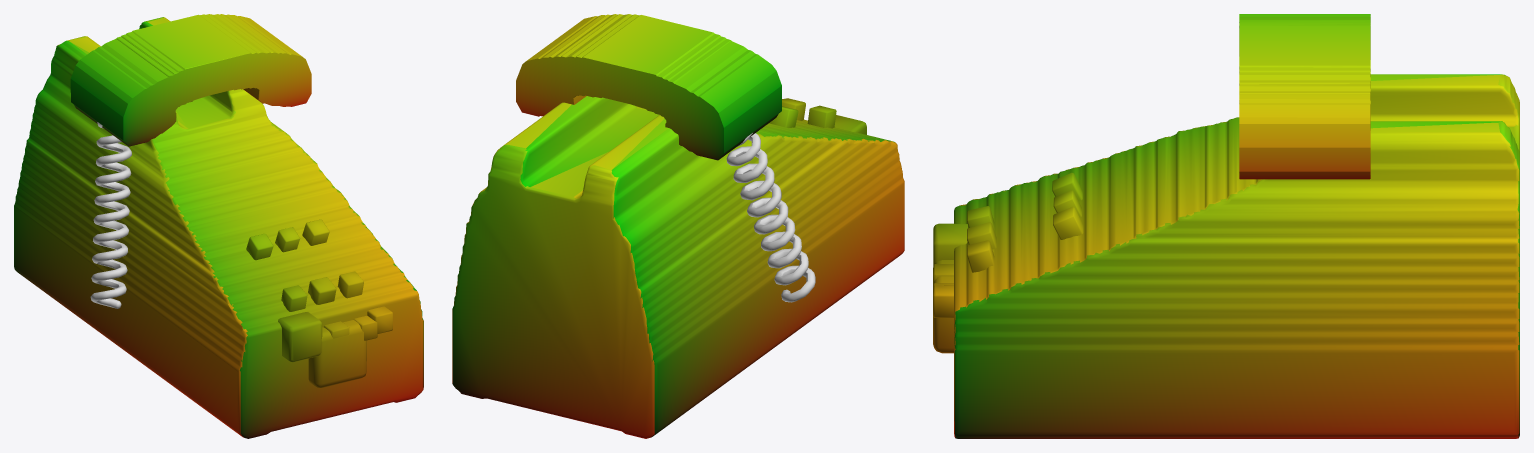
The model's file is telephone_desk_kit.glb.
3 renders of one model, left to right at view 1: azimuth 30°, elevation 25°; view 2: azimuth 150°, elevation 25°; view 3: azimuth 270°, elevation 25°, orthographic. The views are drawn at different scales.
Visible parts, largest first — view 1: telephone_desk_kit; view 2: telephone_desk_kit; view 3: telephone_desk_kit.
Part boxes in pixels (<box>): telephone_desk_kit: <box>14,14,423,438</box>; telephone_desk_kit: <box>452,14,904,438</box>; telephone_desk_kit: <box>933,14,1519,438</box>.
Size of the model in its own units: 0.1194 by 0.1437 by 0.223.
